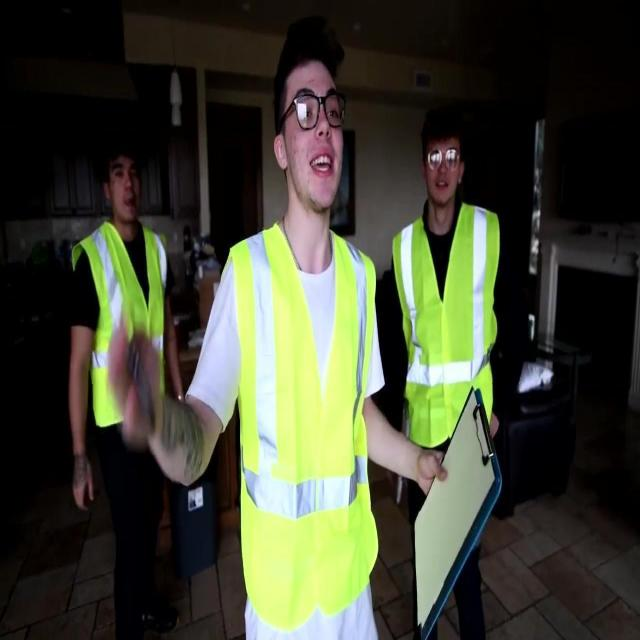Vest: (224, 224, 380, 626), (394, 199, 498, 449), (70, 224, 168, 427)
